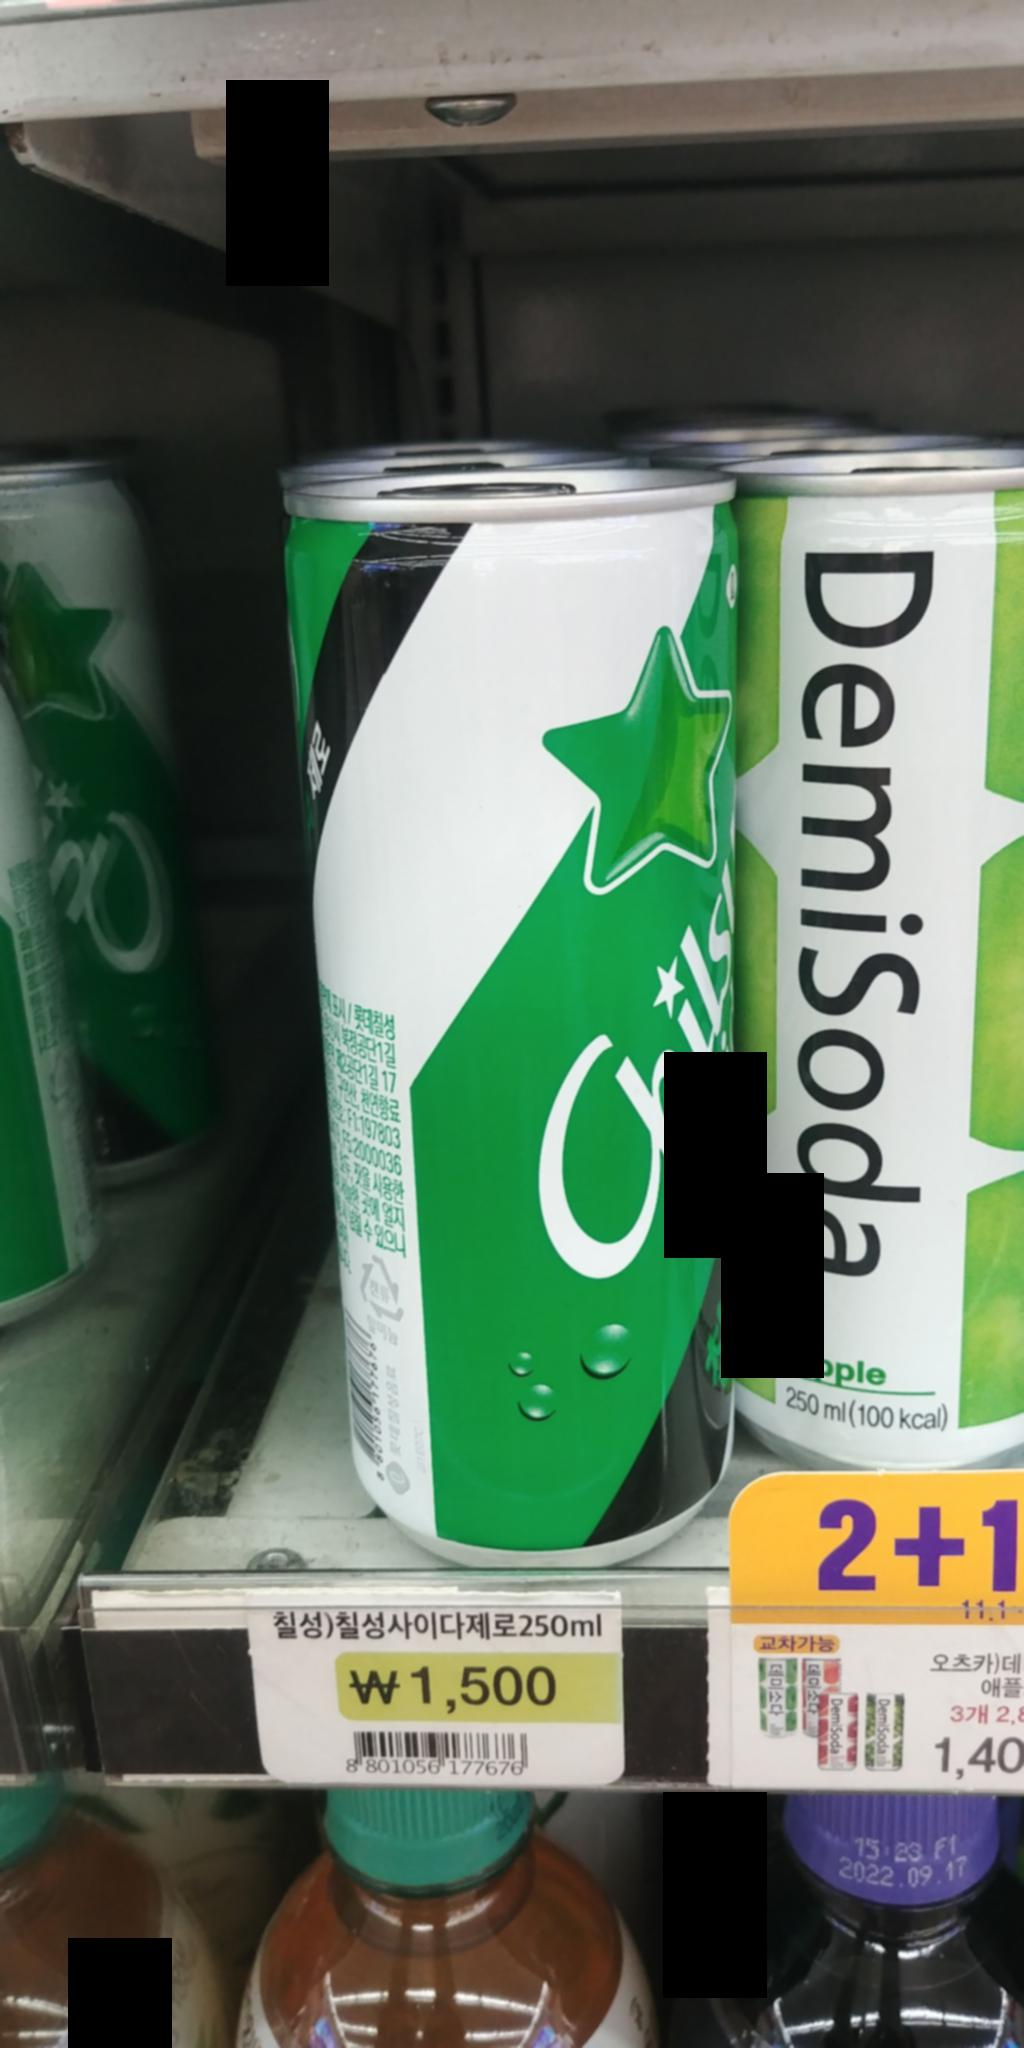chilsungcider_zero: (274, 465, 750, 1567)
